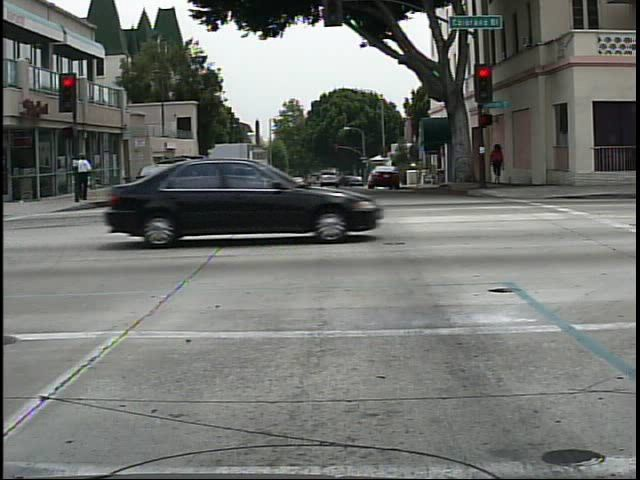person: (68, 147, 96, 209), (488, 137, 512, 190)
